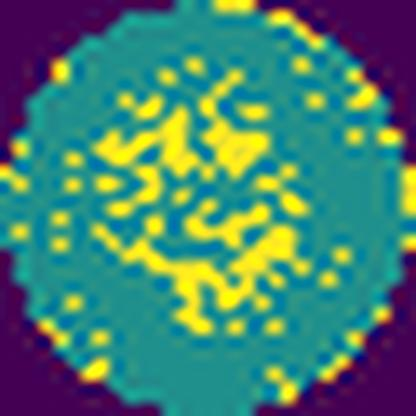Donut: (66, 55, 332, 340)
